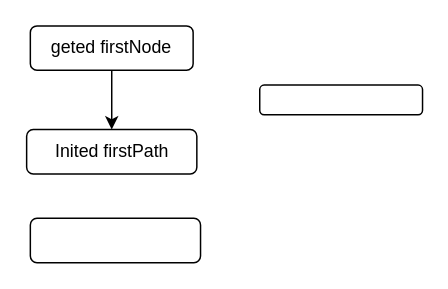
Image size: 448x289. Some labels were removed from this diagram. The shapes that lost their labels are listed below. From the top down, each one's centre as x and y in pixels, then its label:
point (340, 99): initFirstPath
point (115, 240): path = firstPath
